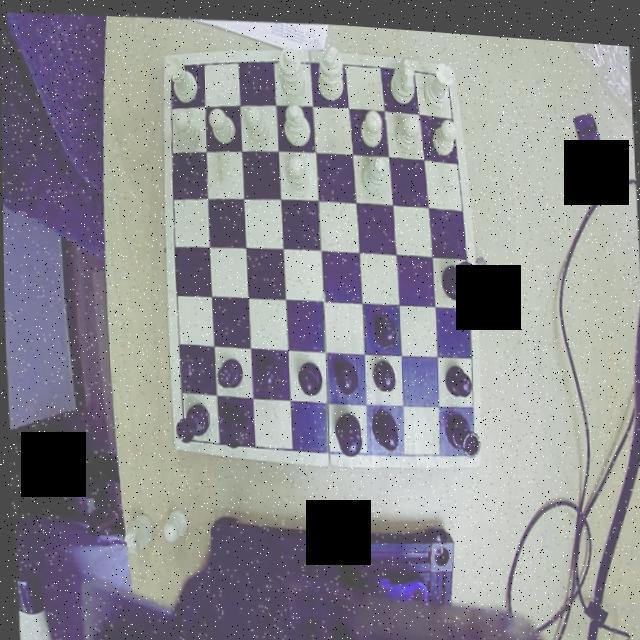chess-table-corners: (456, 431, 478, 457), (176, 424, 197, 448), (164, 51, 179, 80), (434, 56, 452, 80)
